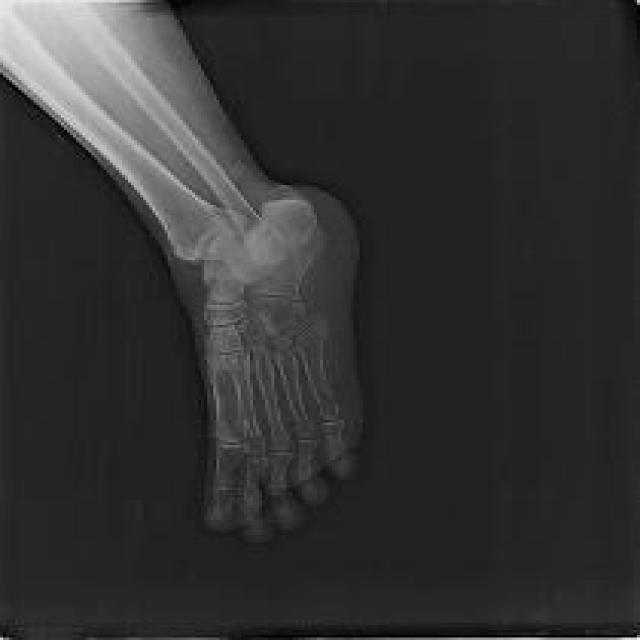normal: (1, 0, 351, 537)
